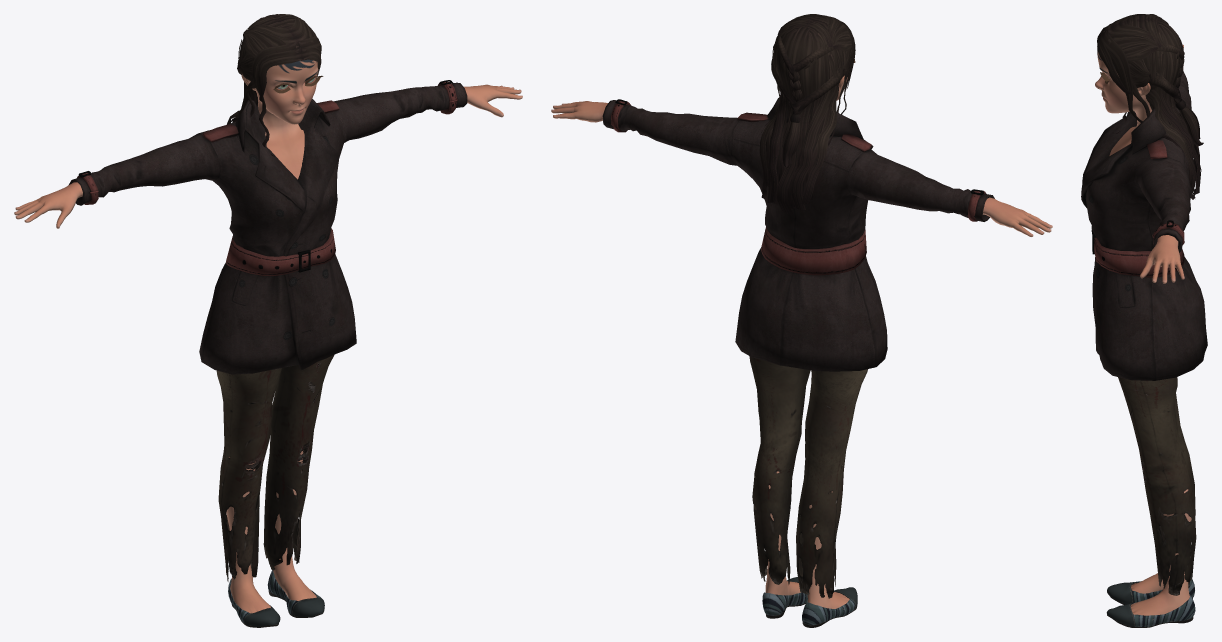
The model's file is female1.obj.
3 renders of one model, left to right at view 1: azimuth 30°, elevation 25°; view 2: azimuth 150°, elevation 25°; view 3: azimuth 270°, elevation 25°, orthographic.
Visible parts, largest first — view 1: Tops, Bottoms, Body, Hair, Shoes; view 2: Tops, Bottoms, Hair, Body, Shoes; view 3: Tops, Bottoms, Hair, Body, Shoes.
Part boxes in pixels (bbox=[...]): Tops: bbox=[69, 80, 467, 374]; Bottoms: bbox=[216, 354, 334, 581]; Body: bbox=[14, 59, 522, 613]; Hair: bbox=[227, 14, 321, 156]; Shoes: bbox=[228, 570, 324, 627]; Tops: bbox=[602, 96, 994, 371]; Bottoms: bbox=[749, 356, 867, 598]; Hair: bbox=[759, 14, 855, 214]; Body: bbox=[551, 75, 1052, 609]; Shoes: bbox=[762, 577, 857, 627]; Tops: bbox=[1081, 65, 1207, 380]; Bottoms: bbox=[1118, 377, 1196, 595]; Hair: bbox=[1097, 14, 1203, 199]; Body: bbox=[1095, 45, 1191, 619]; Shoes: bbox=[1106, 579, 1195, 627].
Size of the model in its own units: 150 by 169 by 32.69.
Materials: 5 (5 with a texture image).
